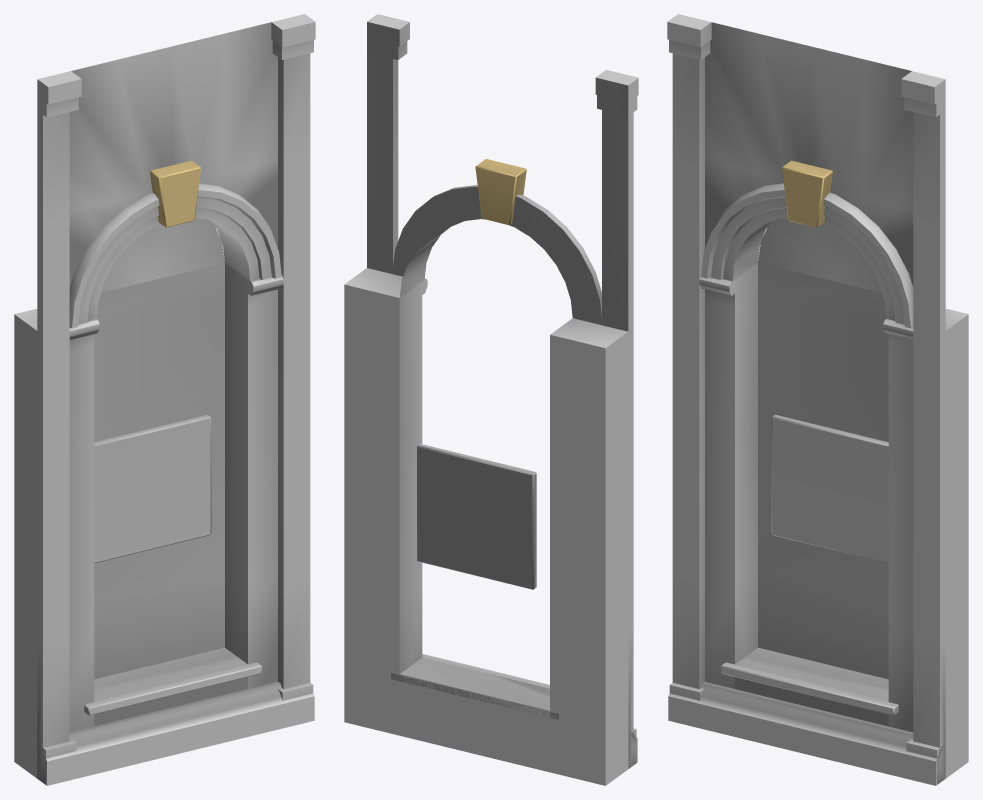
The model's file is cella_bay.glb.
3 renders of one model, left to right at view 1: azimuth 30°, elevation 25°; view 2: azimuth 150°, elevation 25°; view 3: azimuth 330°, elevation 25°, orthographic. The views are drawn at different scales.
Visible parts, largest first — view 1: cella_bay_CL_Stone, cella_bay_CL_Gilt; view 2: cella_bay_CL_Stone, cella_bay_CL_Gilt; view 3: cella_bay_CL_Stone, cella_bay_CL_Gilt.
Boxes of the visible parts, left/top/right/bottom form: cella_bay_CL_Stone: left=14, top=14, right=315, bottom=785; cella_bay_CL_Gilt: left=150, top=160, right=200, bottom=227; cella_bay_CL_Stone: left=344, top=14, right=638, bottom=785; cella_bay_CL_Gilt: left=475, top=159, right=526, bottom=225; cella_bay_CL_Stone: left=667, top=14, right=968, bottom=785; cella_bay_CL_Gilt: left=782, top=160, right=832, bottom=227.
Size of the model in its own units: 4 by 10 by 0.88.
